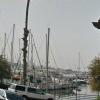Boat: (24, 64, 88, 92)
